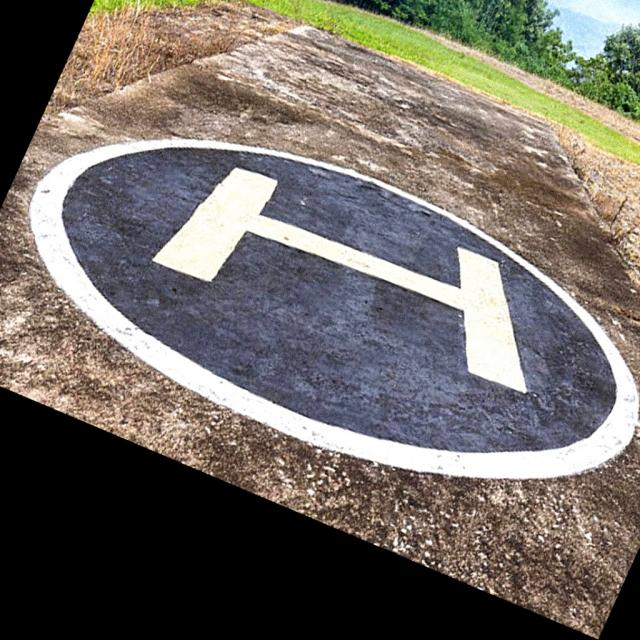helipad: (23, 134, 639, 487)
